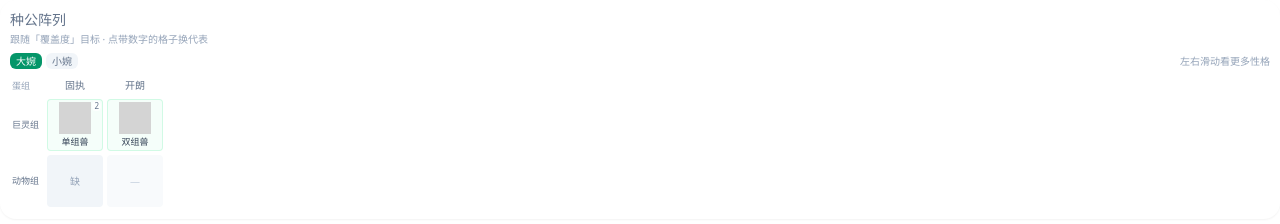
Test: StudMatrix › 切档位 tab 后列与候选跟着变
Click the button with test id "stud-matrix-grade-小婉" at x=62, y=61, box left=46, top=53, right=78, bottom=69
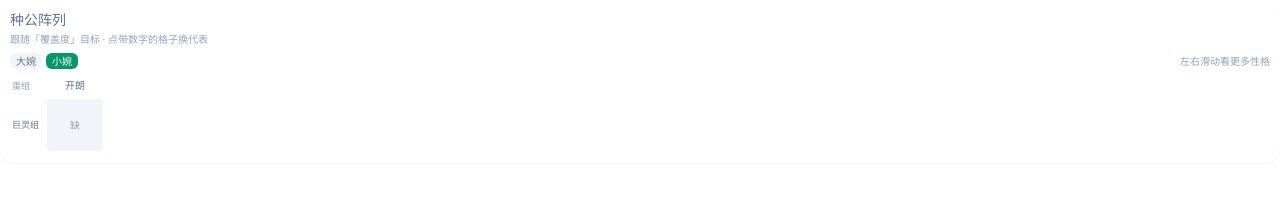
expect the column heading "开朗" is shown: met, box left=45, top=77, right=105, bottom=97
expect the column heading "固执" is gone: met
